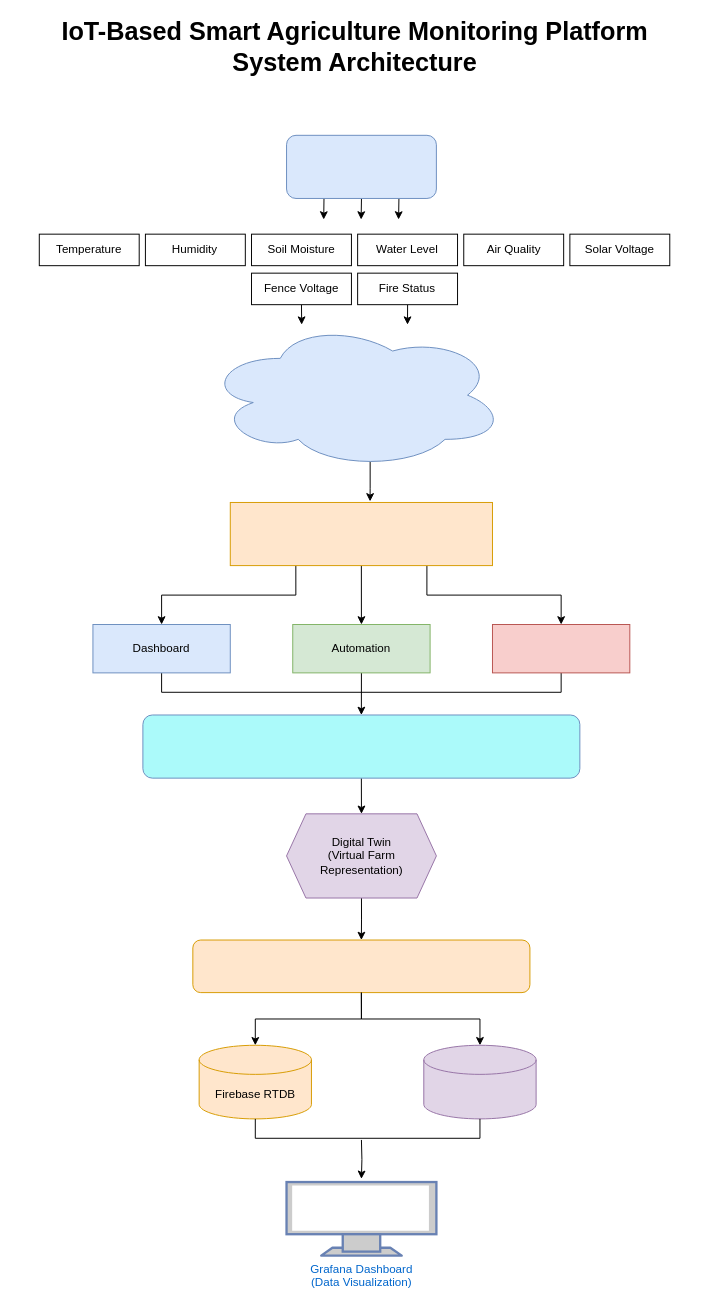
The diagram is 709 pixels wide and 1307 high, and some of its shapes have lost their labels. Each missing label, with the box of its shape:
Alerts: (491, 624, 630, 673)
Analytics Monitoring Center: (142, 714, 580, 778)
Firebase Integration: (192, 939, 530, 993)
HiveMQ CLOUD (MQTT Message Broker): (204, 321, 505, 469)
Influx DB Time Series DS: (423, 1044, 536, 1119)
Node-RED Platform: (229, 501, 492, 566)
Virtual Sensors: (286, 134, 436, 198)
